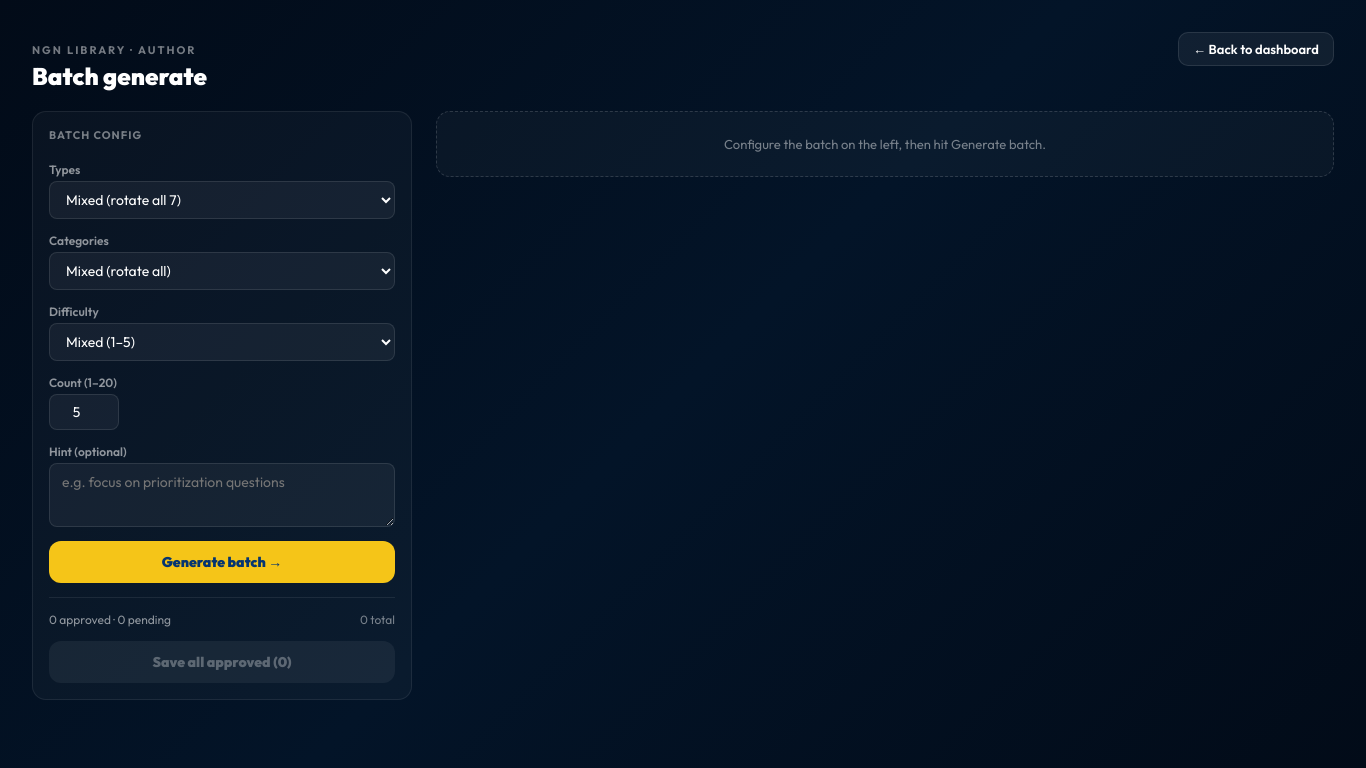
Test: NGNBatchScreen › shows the duplicate badge for AI-flagged duplicates
The width and height of the screenshot is (1366, 768).
Replace the text in the number field named "Batch count" with "1" at x=84, y=412, box x1=49 y1=394 x2=119 y2=430
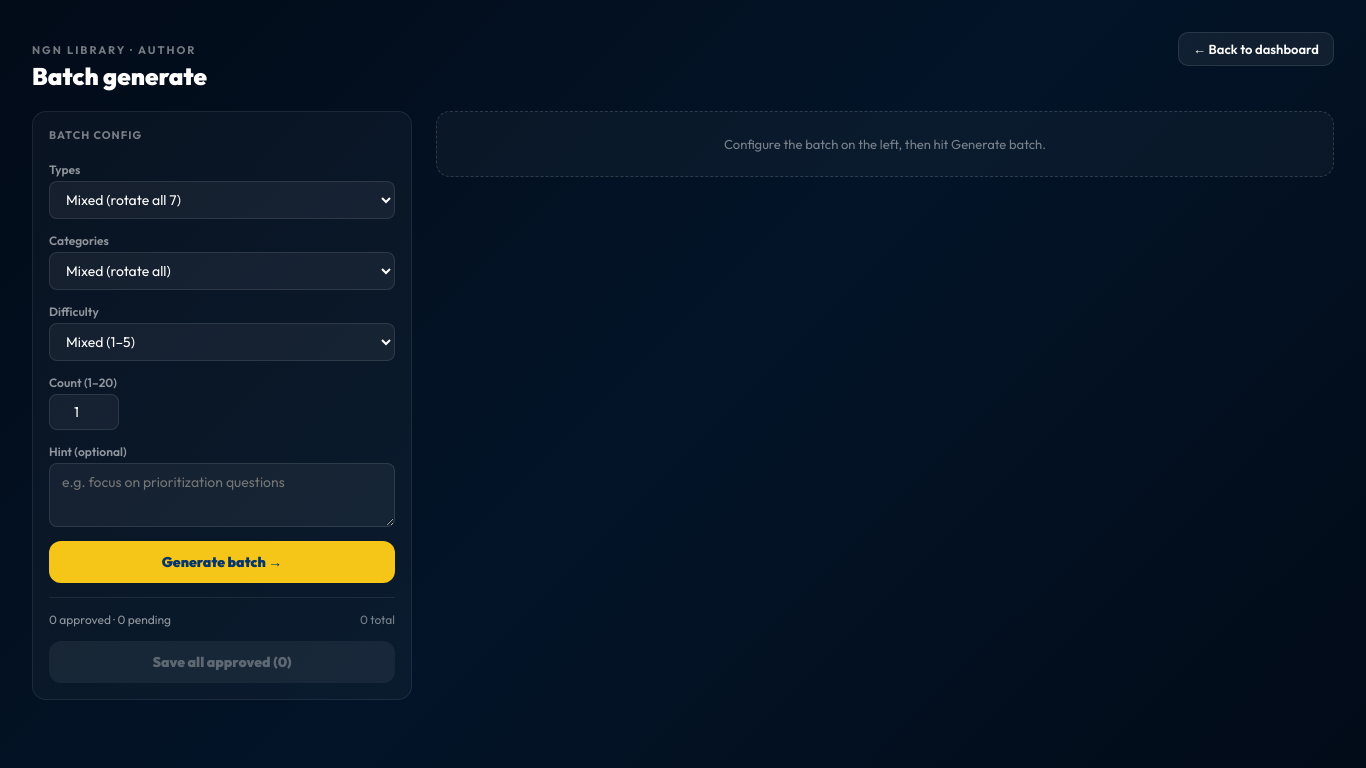
Click the button with test id "batch-generate-btn" at x=222, y=562, box x1=49 y1=541 x2=395 y2=583
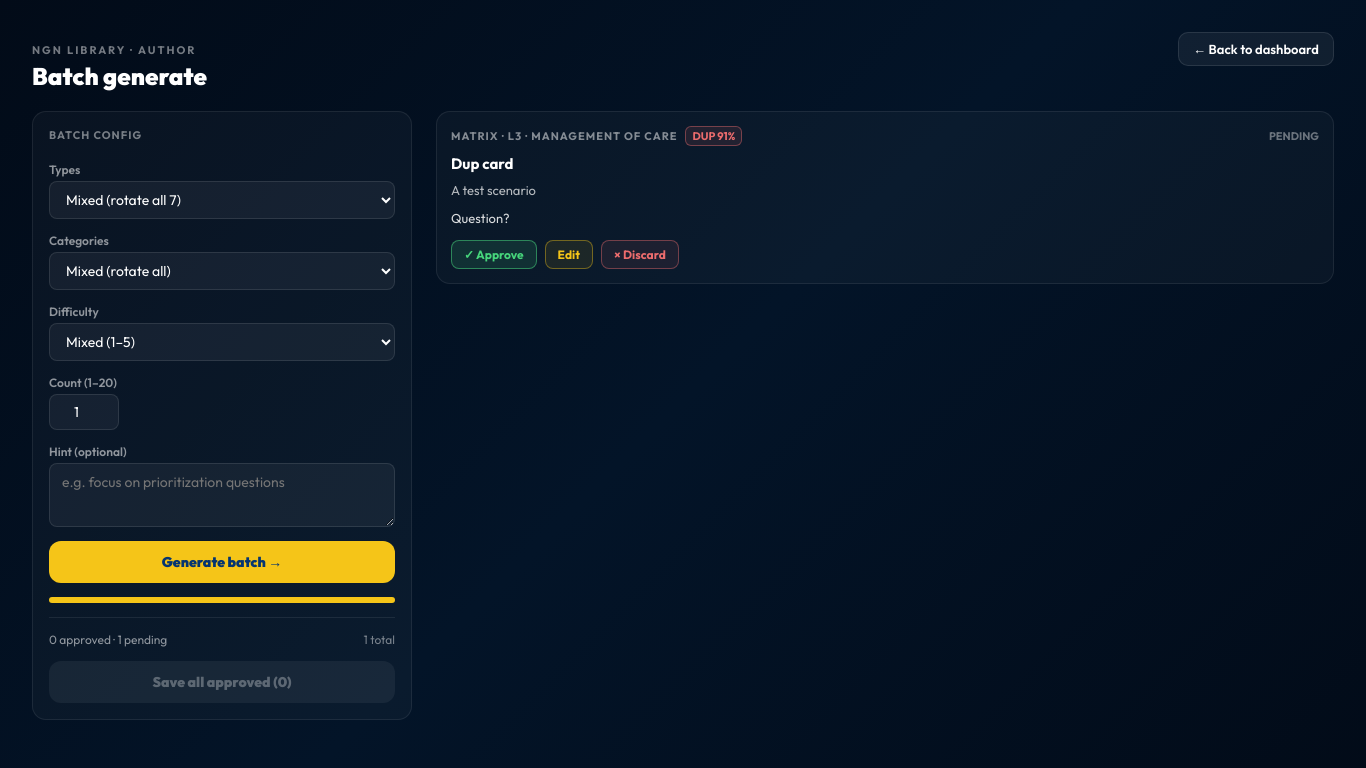
Expected: the text with test id "dup-badge" shows "91%", x1=686 y1=126 x2=742 y2=146
